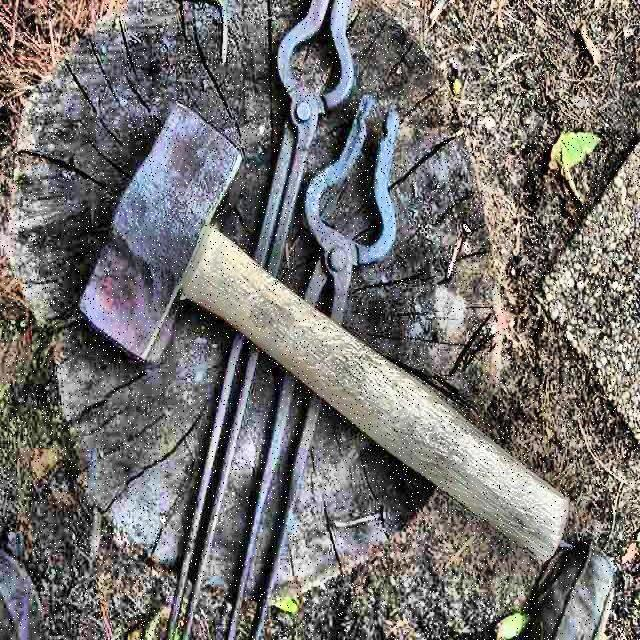hammer: (80, 106, 574, 577)
